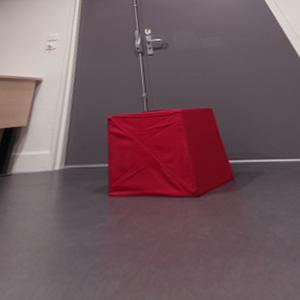medium: (98, 105, 236, 199)
